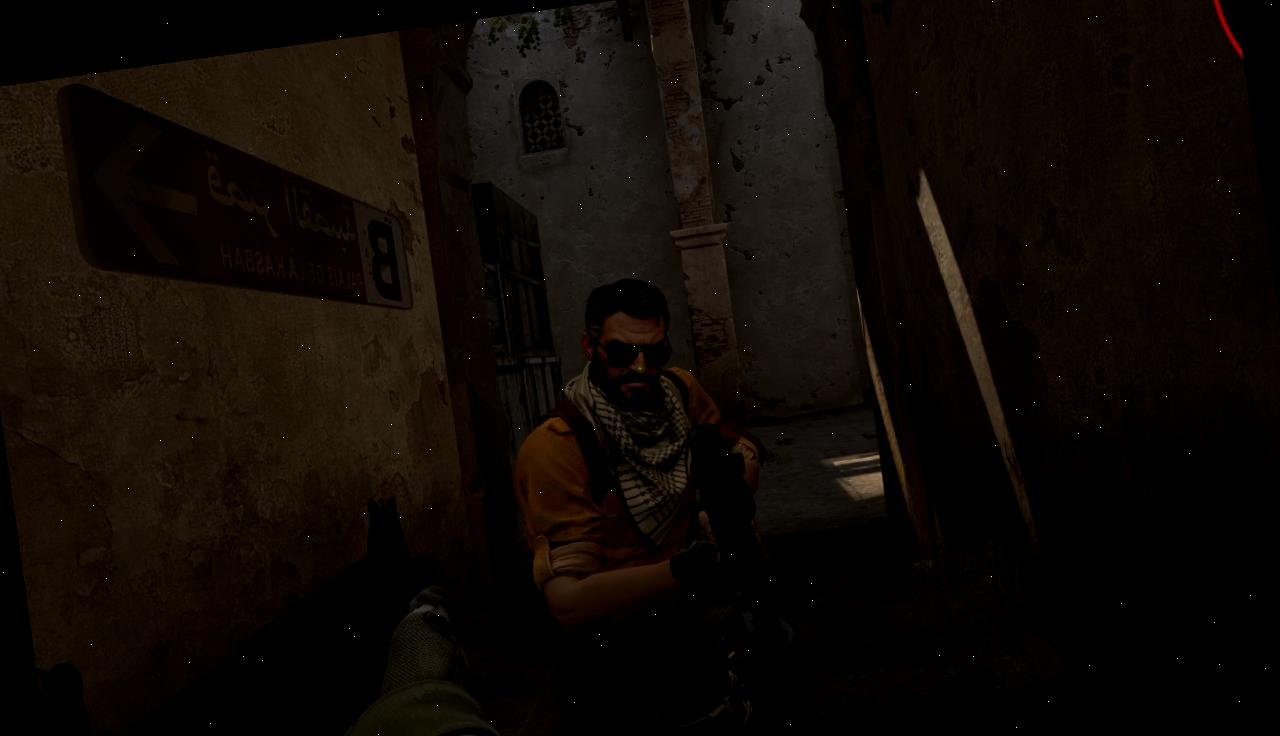rifle: (18, 487, 468, 736)
tt: (496, 269, 781, 736)
tthead: (582, 278, 674, 410)
